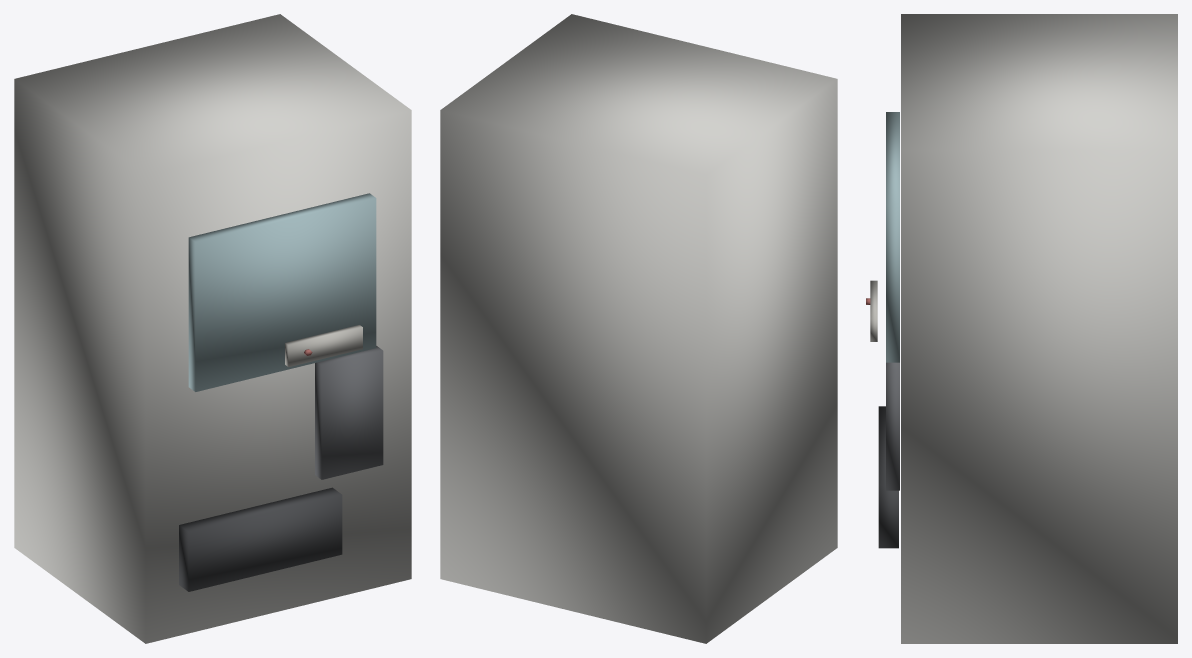
File: motel_ice_machine__squat.glb
3 renders of one model, left to right at view 1: azimuth 30°, elevation 25°; view 2: azimuth 150°, elevation 25°; view 3: azimuth 270°, elevation 25°, orthographic. The views are drawn at different scales.
Visible parts, largest first — view 1: world; view 2: world; view 3: world.
Boxes of the visible parts, bbox=[...] form: world: bbox=[14, 14, 411, 643]; world: bbox=[440, 14, 837, 643]; world: bbox=[866, 14, 1177, 643].
Size of the model in its own units: 0.858 by 1.44 by 0.8273.
